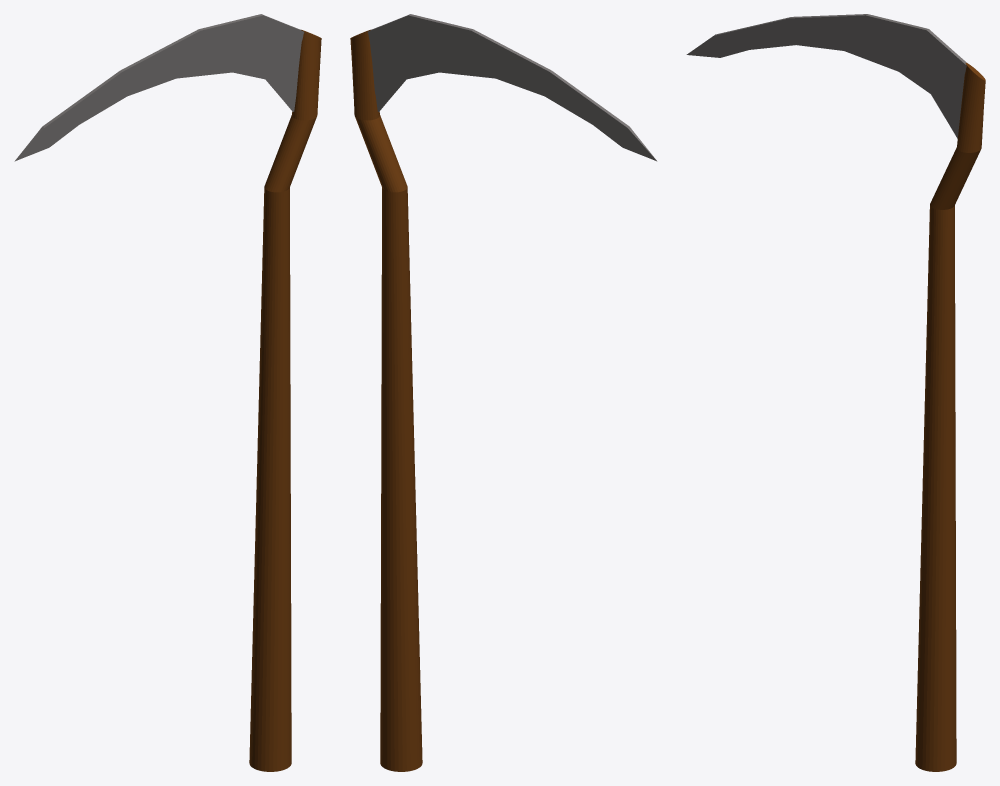
File: Faux.fbx
The picture shows the model from 3 angles, left to right: view 1: azimuth 30°, elevation 25°; view 2: azimuth 150°, elevation 25°; view 3: azimuth 330°, elevation 25°; orthographic projection. The views are drawn at different scales.
Visible parts, largest first — view 1: Cylinder, Plane; view 2: Cylinder, Plane; view 3: Cylinder, Plane.
Part boxes in pixels (box(x1,y1,x2,y2)): Cylinder: box(249, 29, 321, 771); Plane: box(14, 14, 304, 161); Cylinder: box(350, 29, 422, 771); Plane: box(367, 14, 657, 161); Cylinder: box(915, 63, 985, 771); Plane: box(686, 14, 966, 138).
Size of the model in its own units: 260 by 607 by 31.03.
